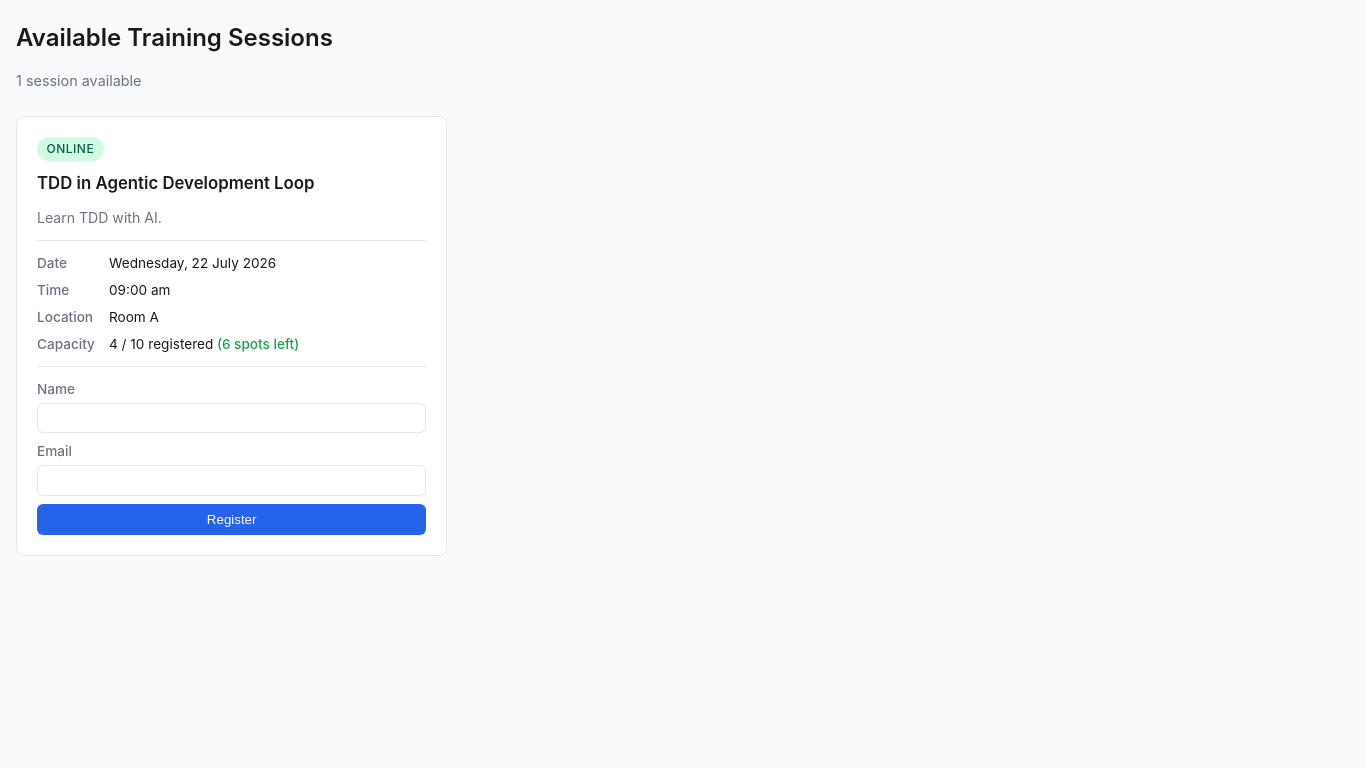
TrainingSessionsPage cancellation › sends DELETE to the cancel endpoint and updates the count from the response
Expected: the link "TDD in Agentic Development Loop" is shown, [37,173,314,193]
Type "Ada Lovelace" into the field labelled "Name" at (232,418), box [37,402,426,433]
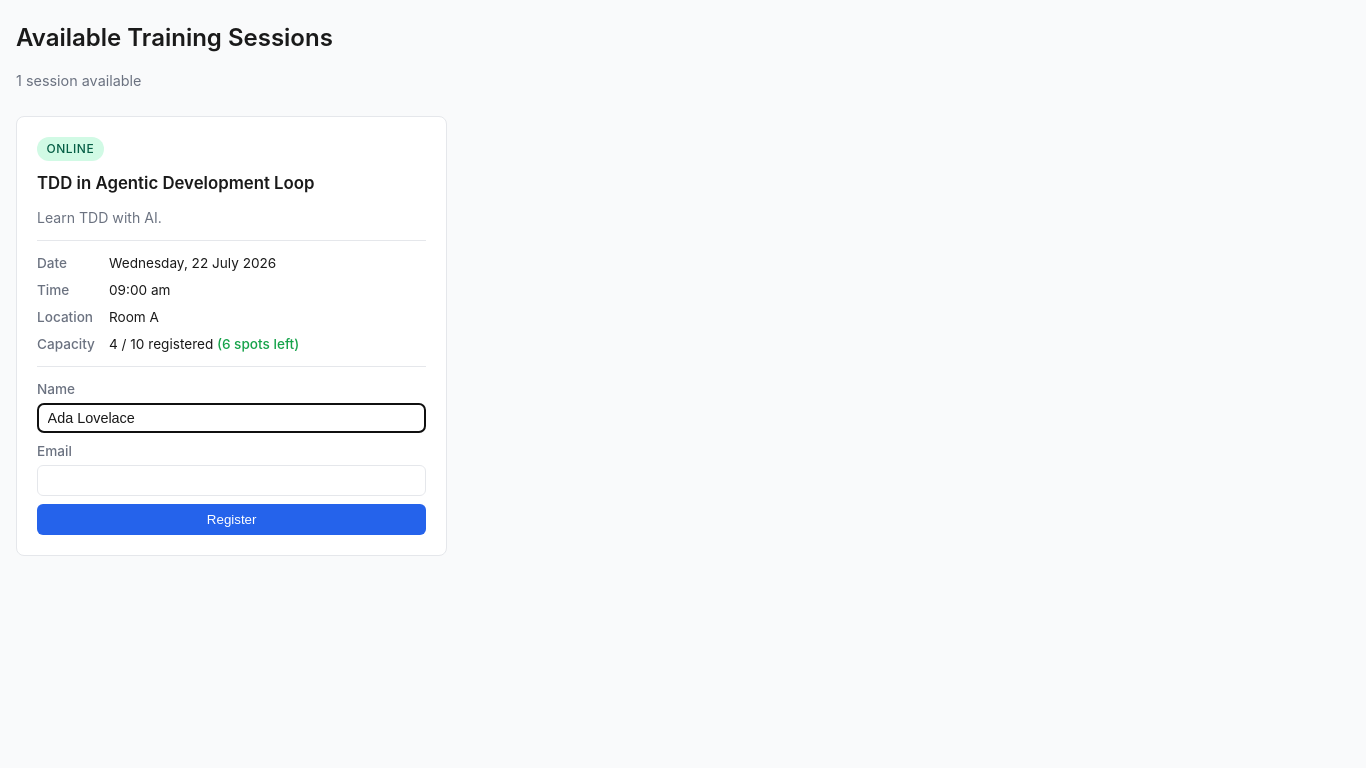
Type "ada@example.com" into the field labelled "Email" at (232,480), box [37,465,426,496]
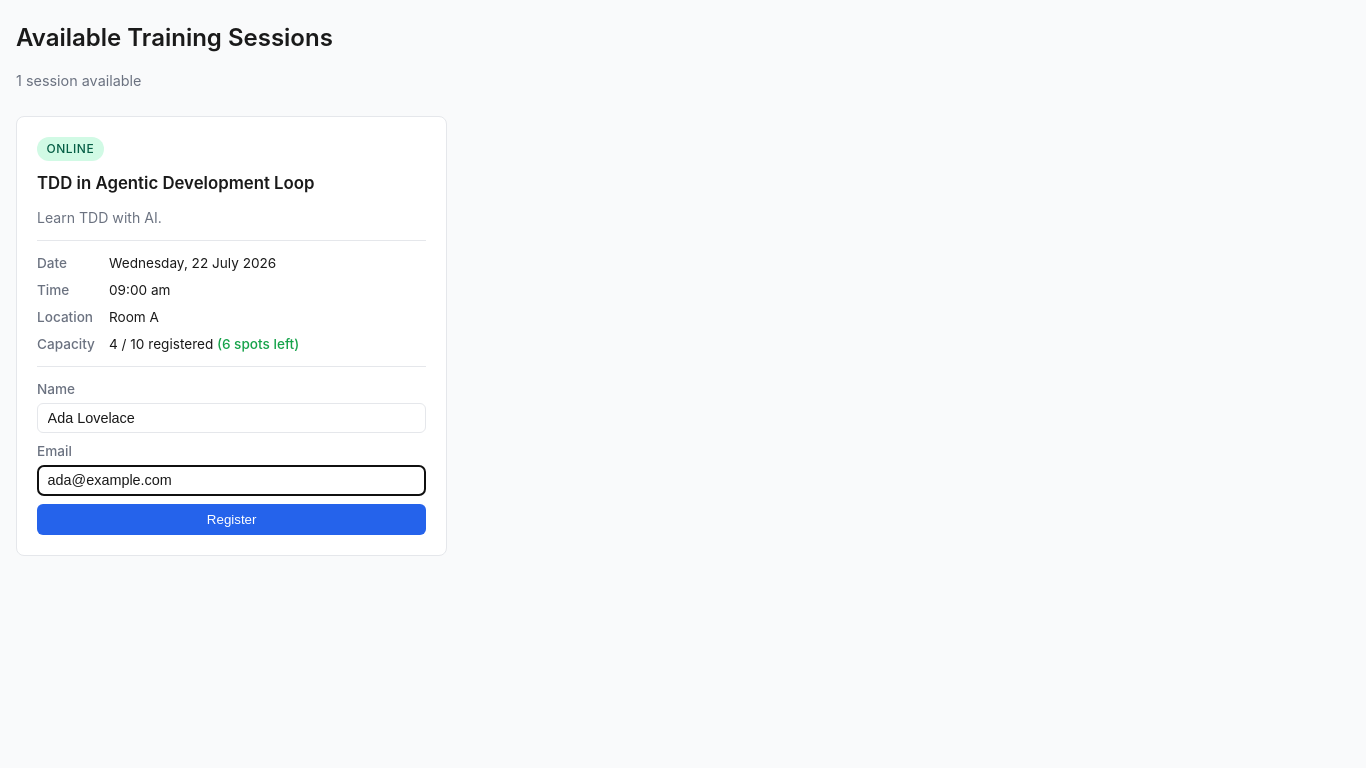
Click the button "Register" at (232,519), box [37,504,426,535]
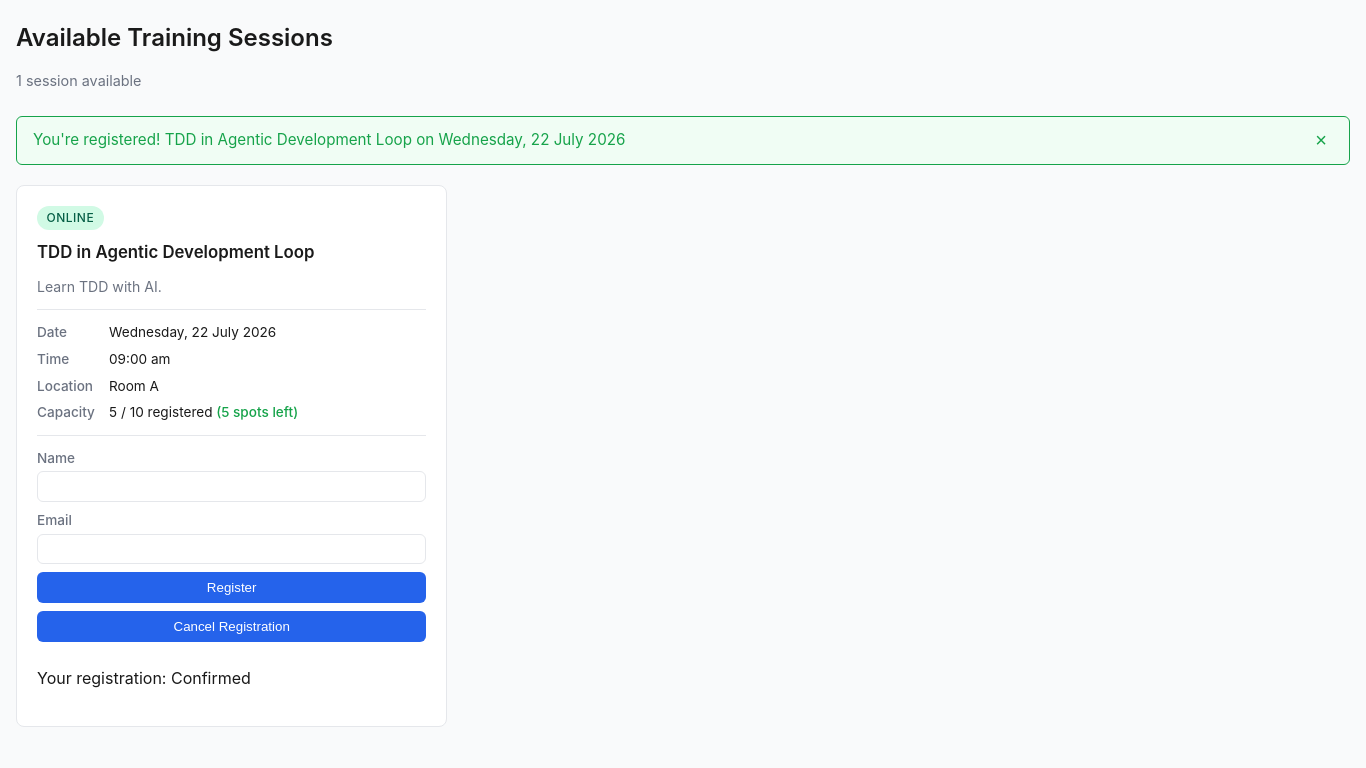
Now the text "5 / 10 registered (5 spots left)" is shown, box [109,402,298,423]
Click the button "Cancel Registration" at (232,627), box [37,612,426,642]
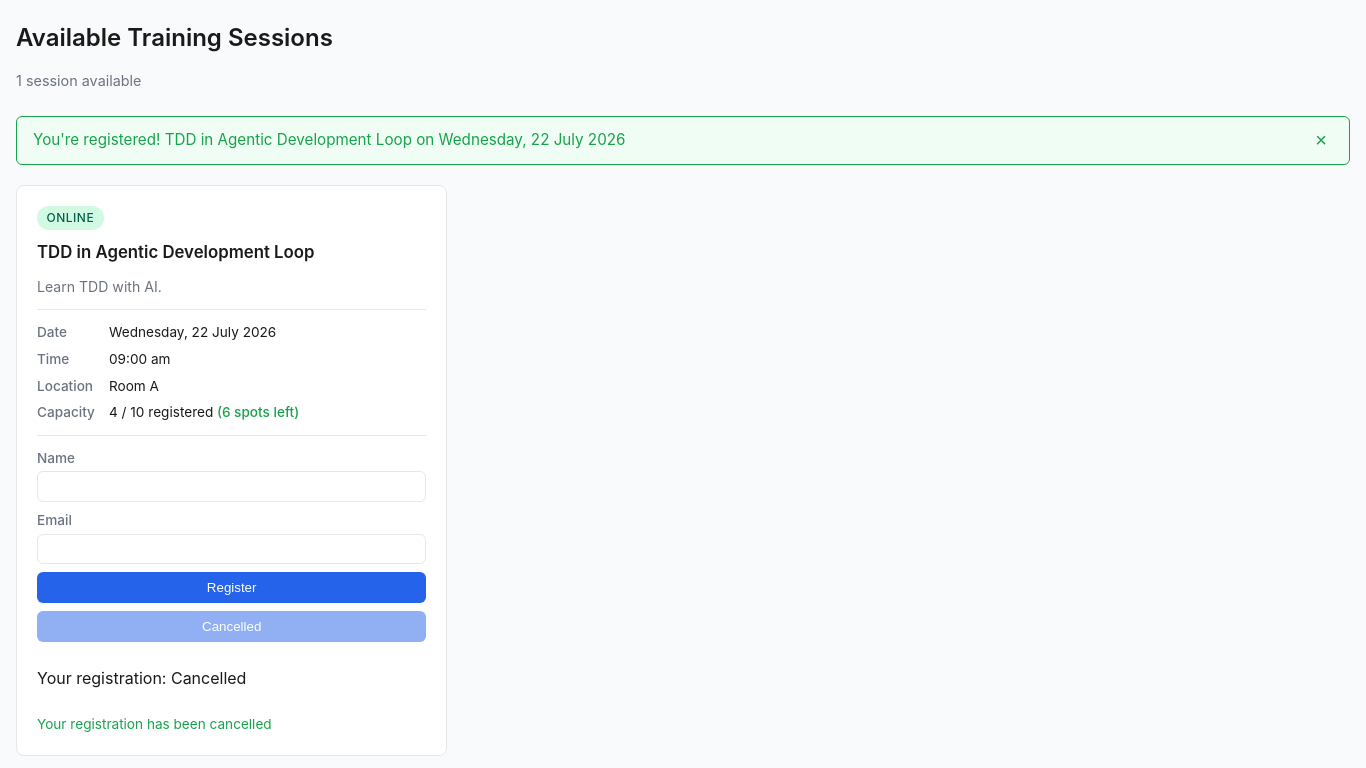
Now the text "4 / 10 registered (6 spots left)" is shown, box [109,402,299,423]
Now the button "Cancelled" is disabled, box [37,612,426,642]
